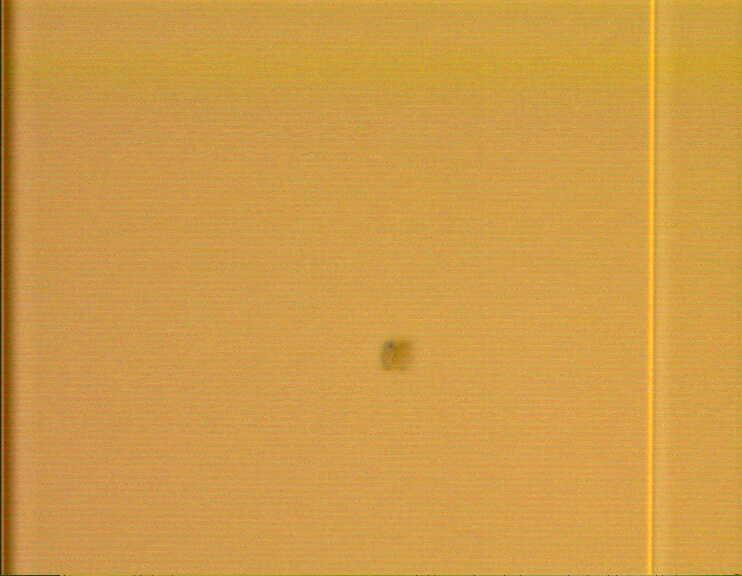PIQ PARTICLE: (374, 332, 418, 376)
